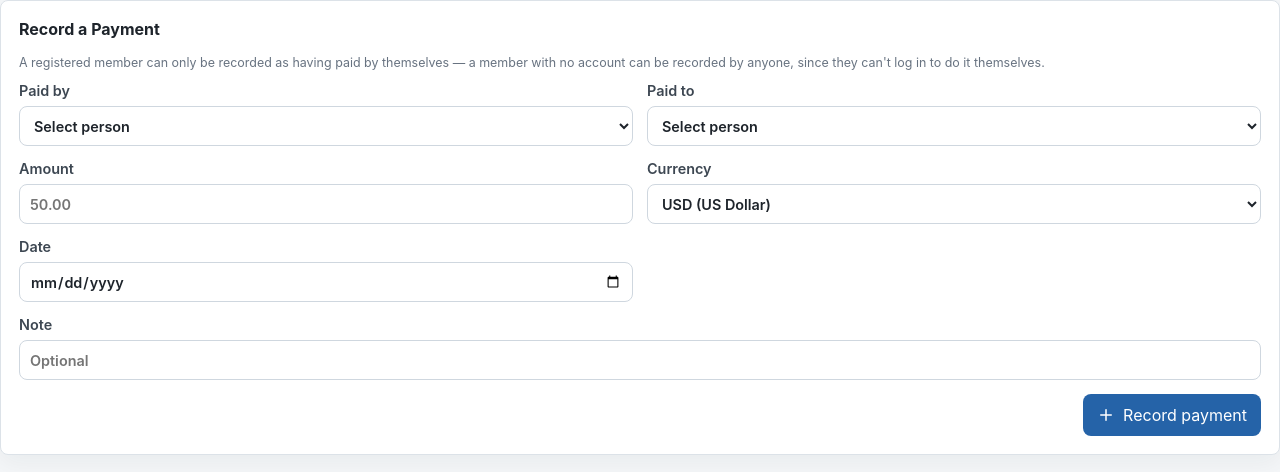
Test: PaymentsPanel › submits a valid payment and resets the form
The image size is (1280, 472).
Select "Anita" in the dropdown labelled "Paid by" at (326, 126), box [19,106,633,146]
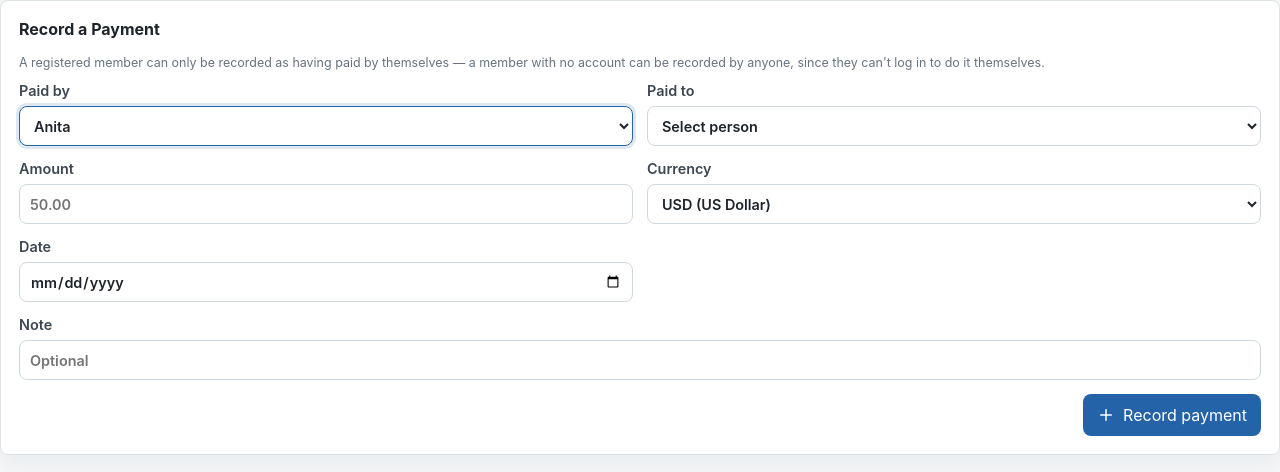
Select "Gujing" in the dropdown labelled "Paid to" at (954, 126), box [647,106,1261,146]
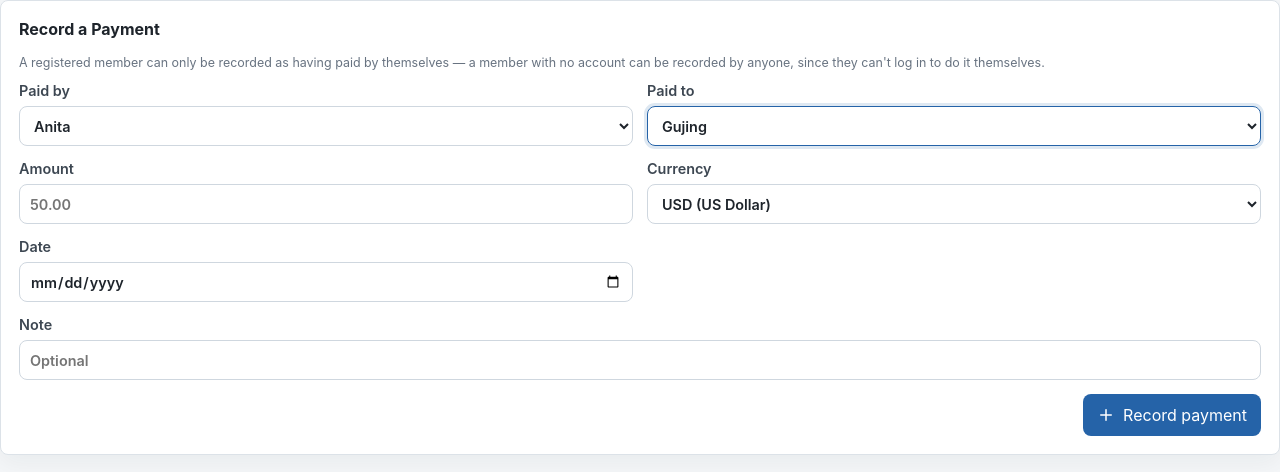
Type "45" into the number field labelled "Amount" at (326, 204), box [19,184,633,224]
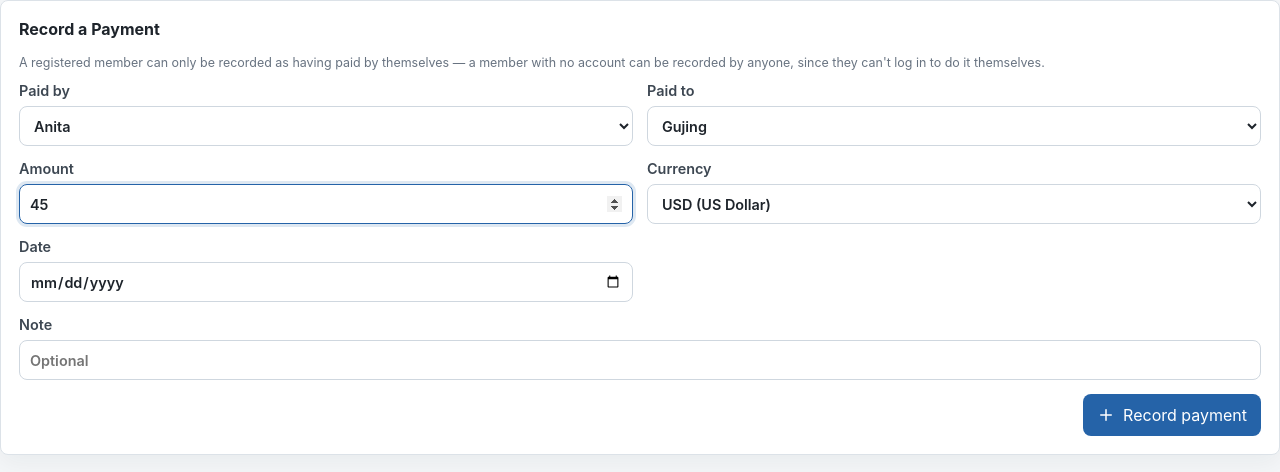
Type "Cash back" into the field labelled "Note" at (640, 360), box [19,340,1261,380]
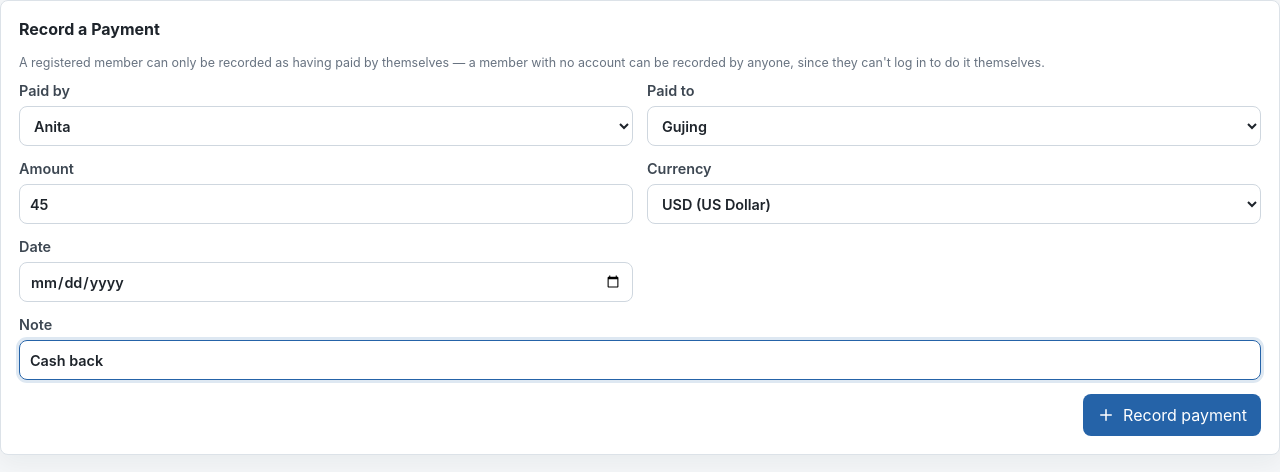
Click the button "Record payment" at (1172, 416), box [1083,394,1261,436]
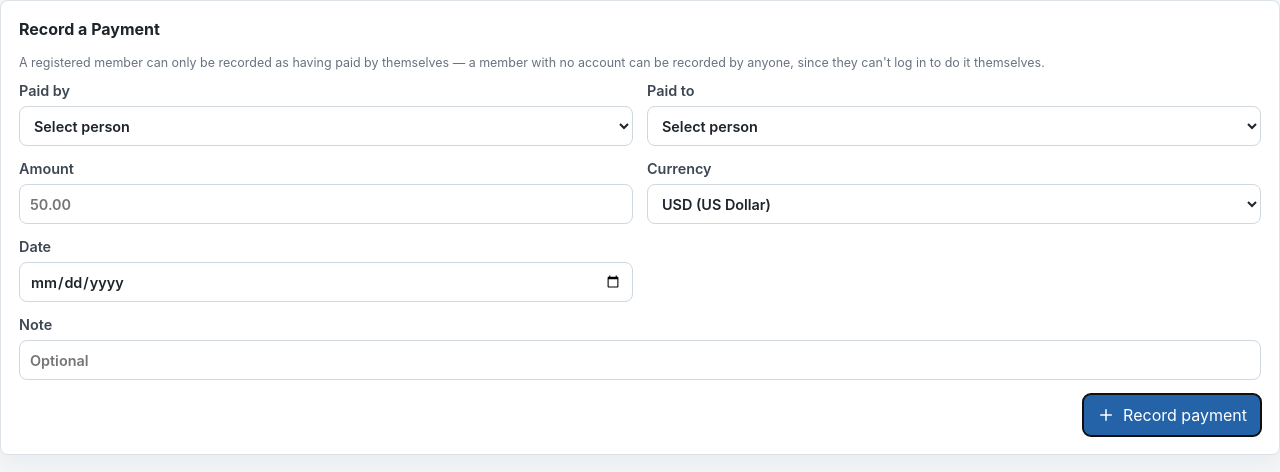
Expected: the number field labelled "Amount" is not empty, [19,184,633,224]
